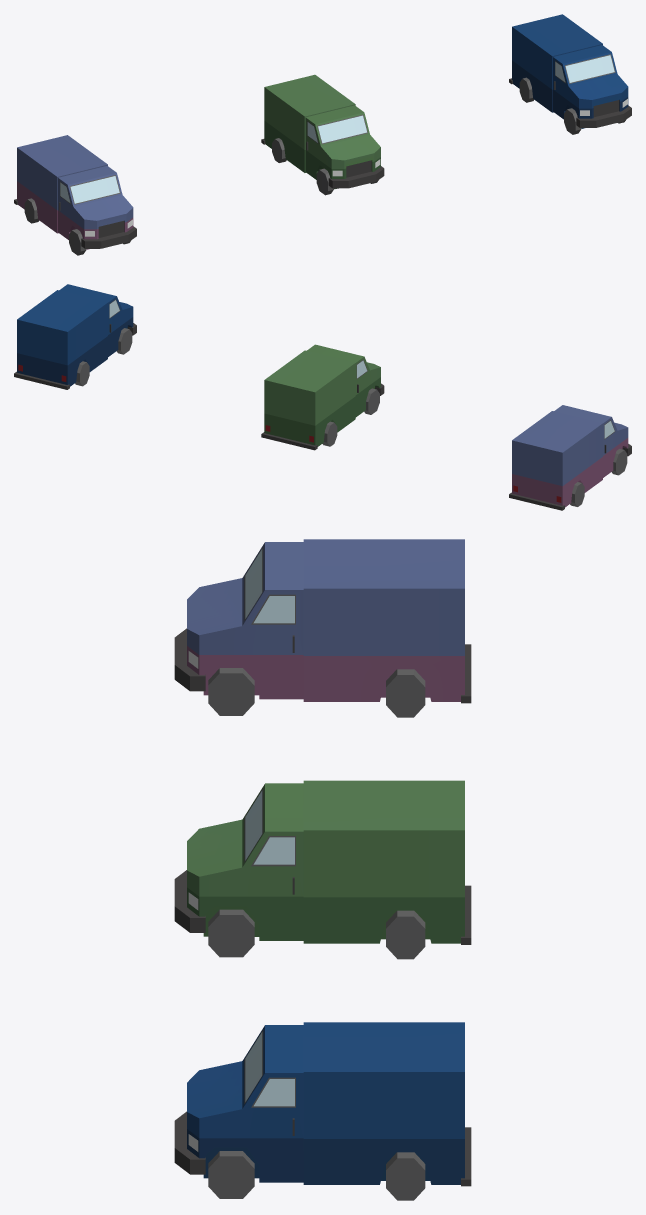
The model's file is city_trucks.glb.
The picture shows the model from 3 angles, top to bottom: view 1: azimuth 30°, elevation 25°; view 2: azimuth 150°, elevation 25°; view 3: azimuth 270°, elevation 25°; orthographic projection. The views are drawn at different scales.
Parts seen in each view (by area): view 1: Truck_3_Mat_0; view 2: Truck_3_Mat_0; view 3: Truck_3_Mat_0.
Part boxes in pixels (x1,y1,x2,y2): Truck_3_Mat_0: [14, 14, 631, 255]; Truck_3_Mat_0: [14, 284, 631, 510]; Truck_3_Mat_0: [174, 539, 471, 1200].
Size of the model in its own units: 6.81 by 0.7479 by 1.59.
1 material, 1 textured.
